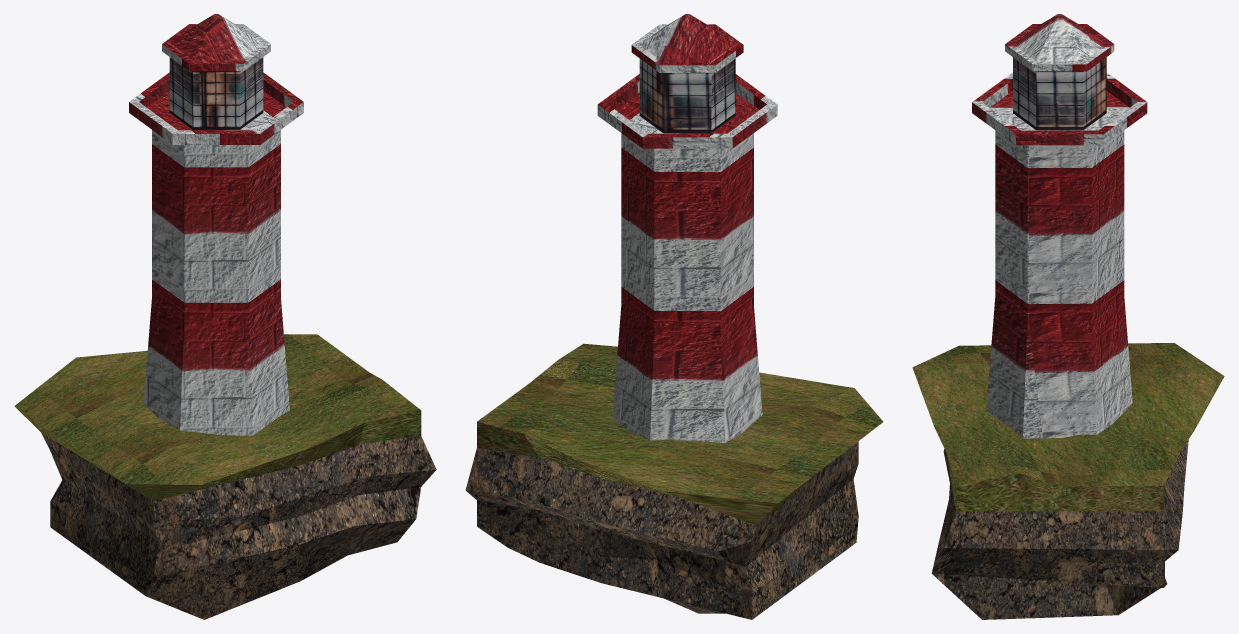
Rendered from LighthouseTextured.obj.
3 renders of one model, left to right at view 1: azimuth 30°, elevation 25°; view 2: azimuth 150°, elevation 25°; view 3: azimuth 270°, elevation 25°, orthographic. The views are drawn at different scales.
Parts seen in each view (by area): view 1: LightHouse_LightHouseMat, Cube_DirtMat, Cube_GrassGroundMat, LightHouse_LightHouseWindowMat; view 2: LightHouse_LightHouseMat, Cube_DirtMat, Cube_GrassGroundMat, LightHouse_LightHouseWindowMat; view 3: LightHouse_LightHouseMat, Cube_GrassGroundMat, Cube_DirtMat, LightHouse_LightHouseWindowMat.
Part boxes in pixels (x1=…): LightHouse_LightHouseMat: x1=129, y1=14, x2=303, y2=435; Cube_DirtMat: x1=41, y1=433, x2=436, y2=619; Cube_GrassGroundMat: x1=14, y1=334, x2=421, y2=500; LightHouse_LightHouseWindowMat: x1=169, y1=57, x2=263, y2=129; LightHouse_LightHouseMat: x1=597, y1=14, x2=777, y2=442; Cube_DirtMat: x1=465, y1=441, x2=858, y2=619; Cube_GrassGroundMat: x1=477, y1=343, x2=882, y2=525; LightHouse_LightHouseWindowMat: x1=639, y1=58, x2=735, y2=133; LightHouse_LightHouseMat: x1=972, y1=14, x2=1147, y2=438; Cube_GrassGroundMat: x1=912, y1=343, x2=1224, y2=511; Cube_DirtMat: x1=931, y1=440, x2=1188, y2=619; LightHouse_LightHouseWindowMat: x1=1013, y1=57, x2=1106, y2=130.
Bounding box in the file's own units: 17.34 × 30.1 × 15.2.
